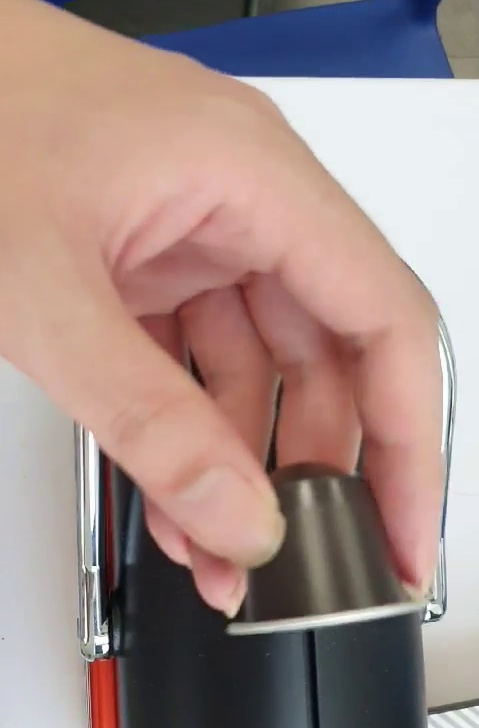capsule_4: (224, 459, 434, 642)
